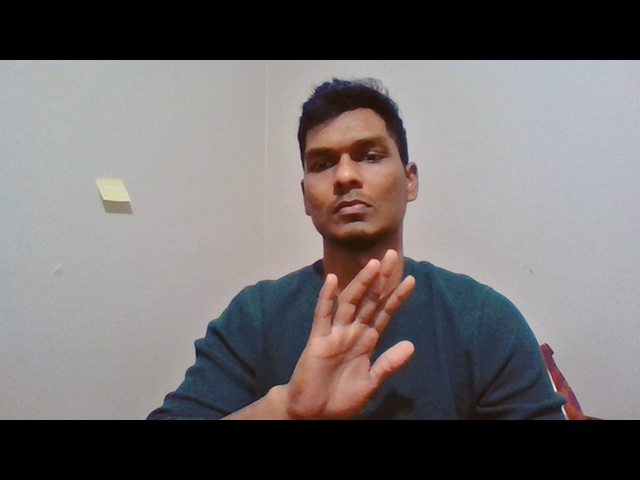Hello: (285, 249, 419, 418)
